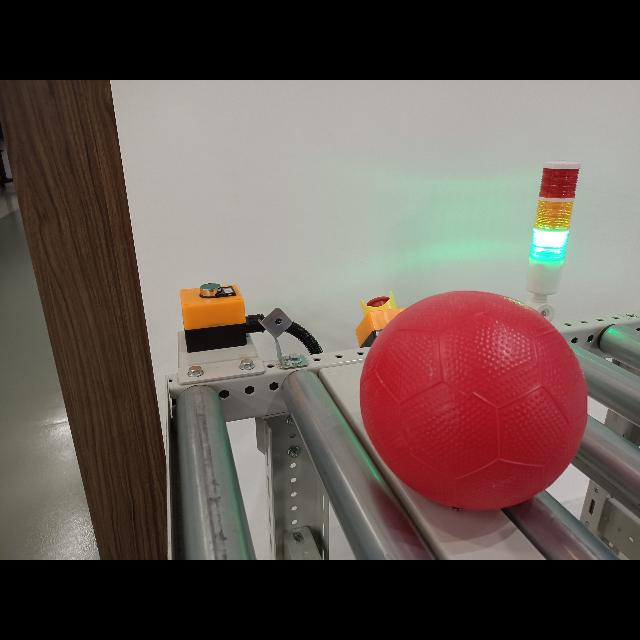R: (360, 289, 588, 513)
